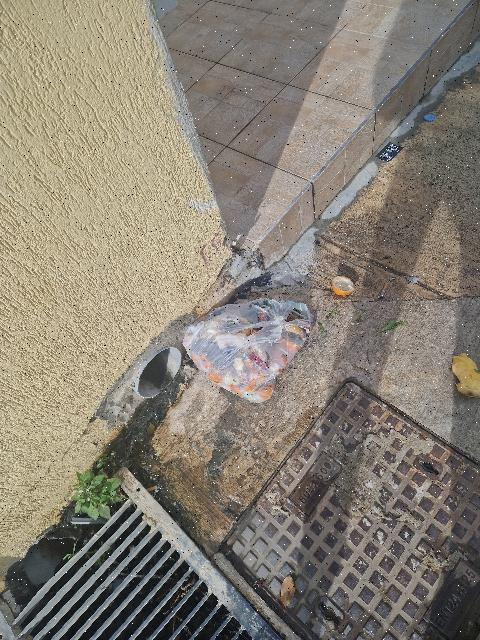Organic -White-: (183, 299, 313, 401)
